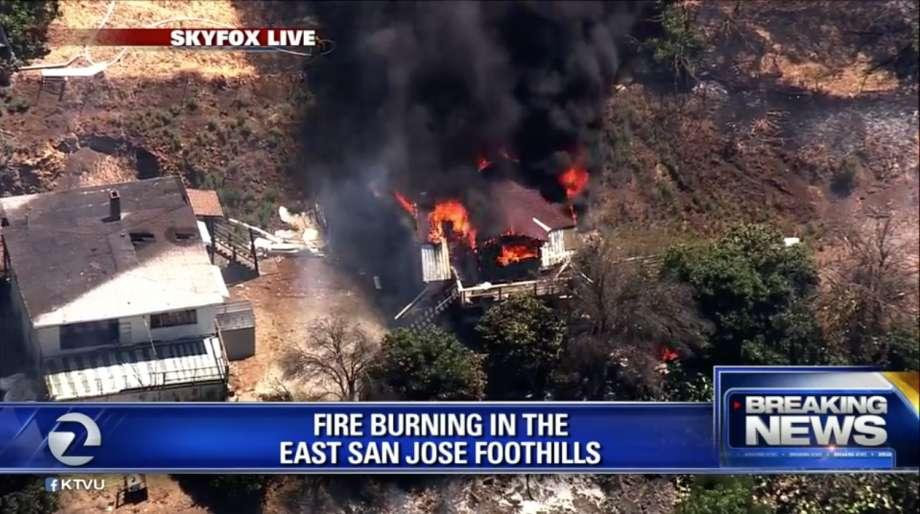fire: (379, 137, 625, 315)
